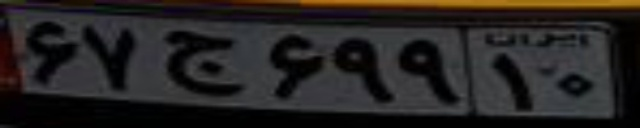0: (551, 71, 598, 99)
1: (490, 51, 534, 112)
6: (265, 33, 324, 98), (22, 19, 79, 86)
7: (80, 22, 147, 90)
9: (395, 38, 461, 104), (332, 36, 394, 102)
jim: (158, 29, 242, 96)
